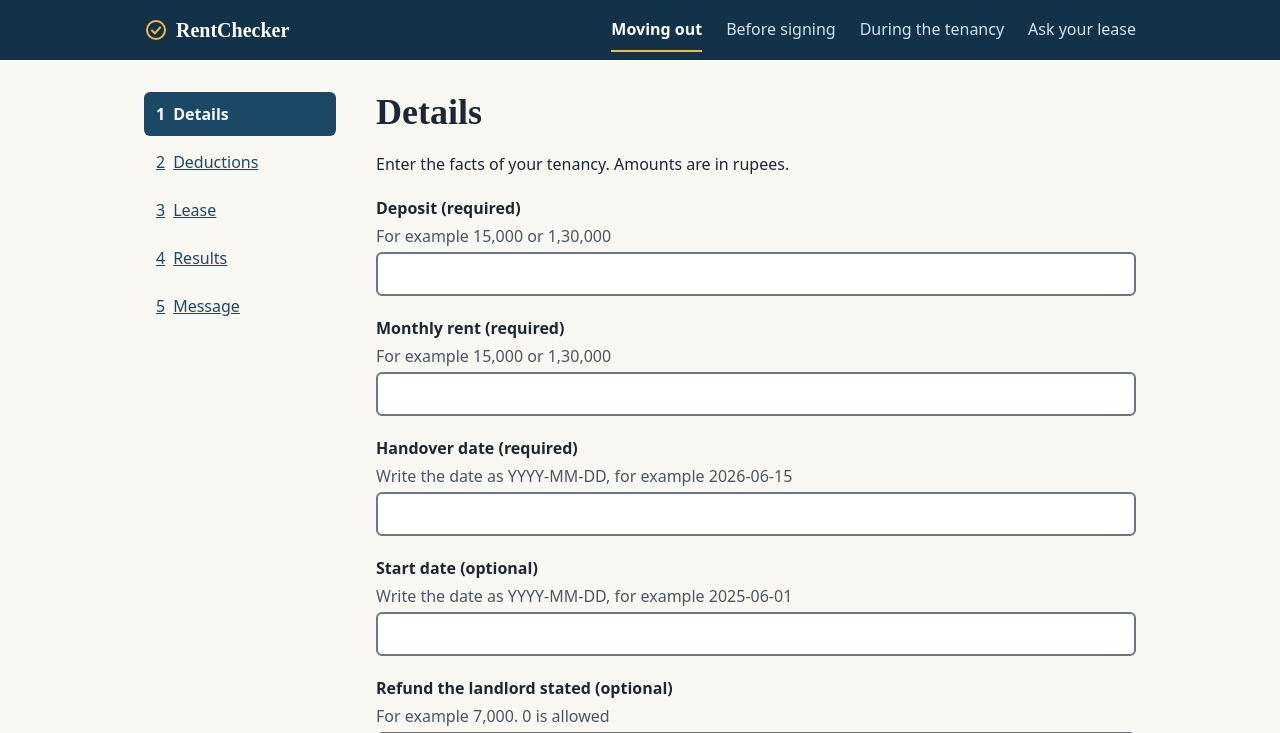
Scenario: Details step › F1-AC6 deposit -5 is rejected next to the field (T-007, T-008)
Type "-5" into the field labelled "Deposit (required)" at {"x": 756, "y": 274}, box [376,252,1136,296]
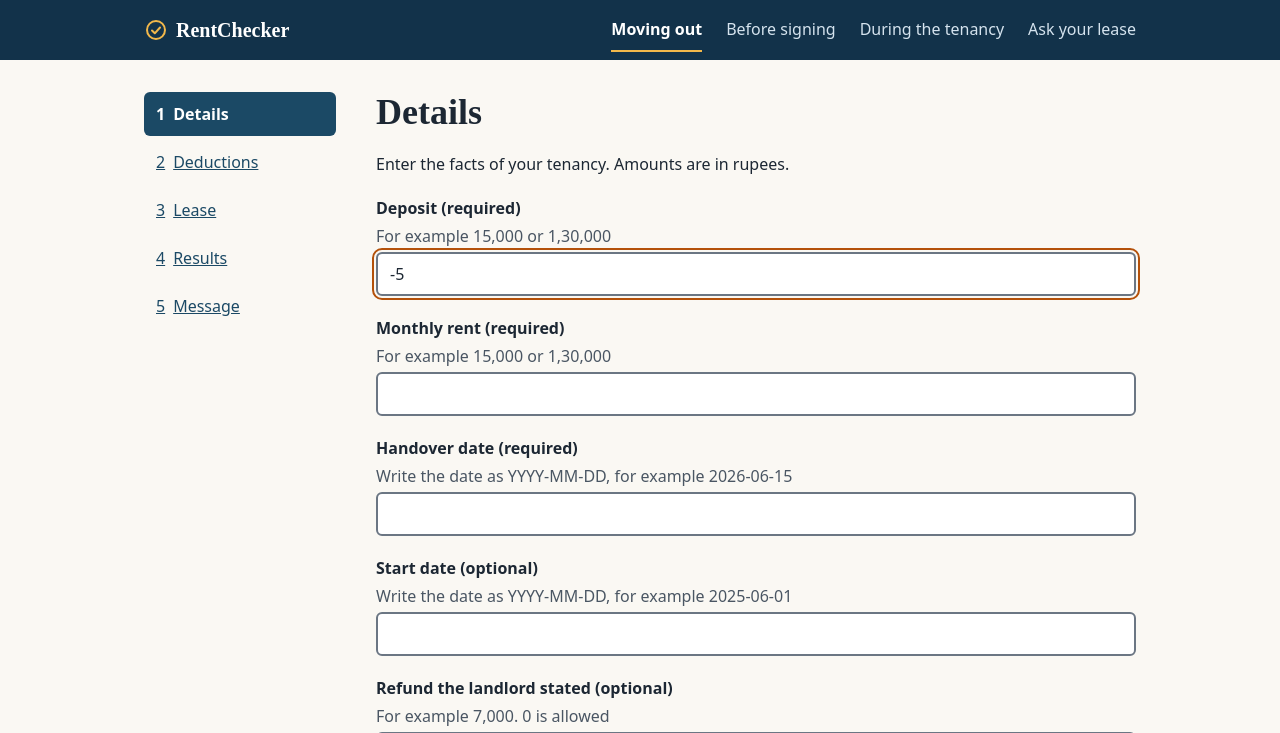
Press Tab
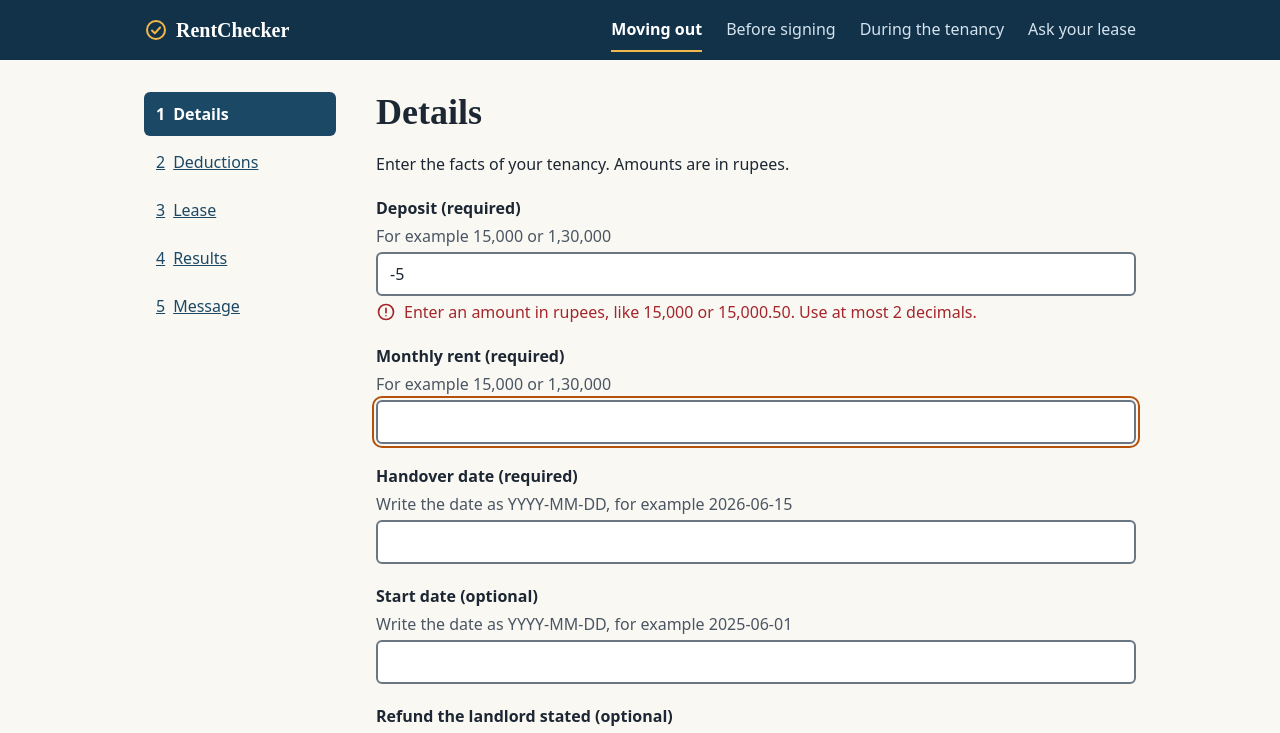
Expected: the text "Enter an amount in rupees, like 15,000 or 15,000.50. Use at most 2 decimals." is shown, [404,300,977,324]
